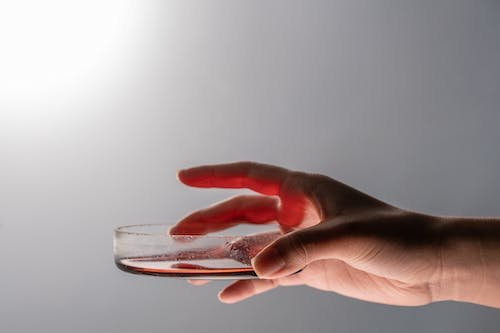blood: (111, 222, 308, 279)
